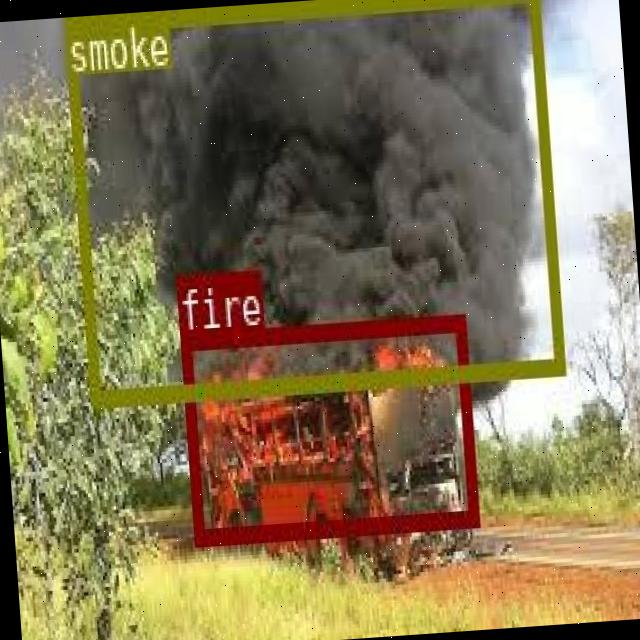fire: (178, 310, 478, 542)
smoke: (62, 0, 562, 405)
